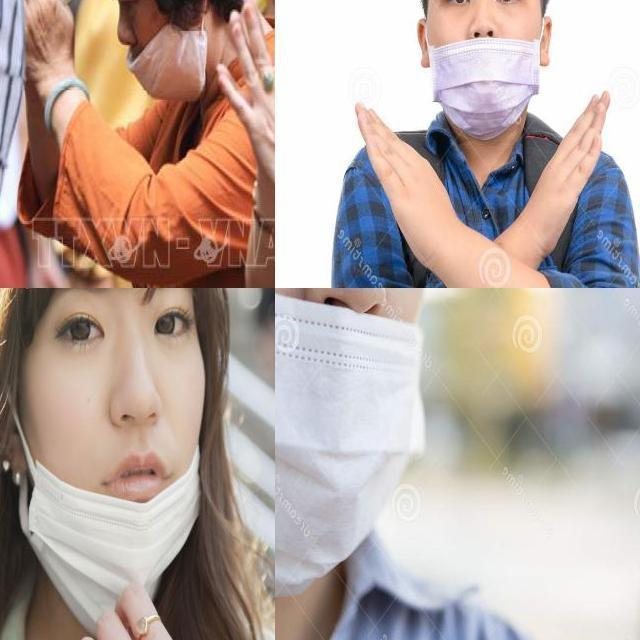hairnet: (11, 351, 207, 569), (275, 288, 427, 564), (434, 14, 536, 137), (109, 11, 207, 103)
